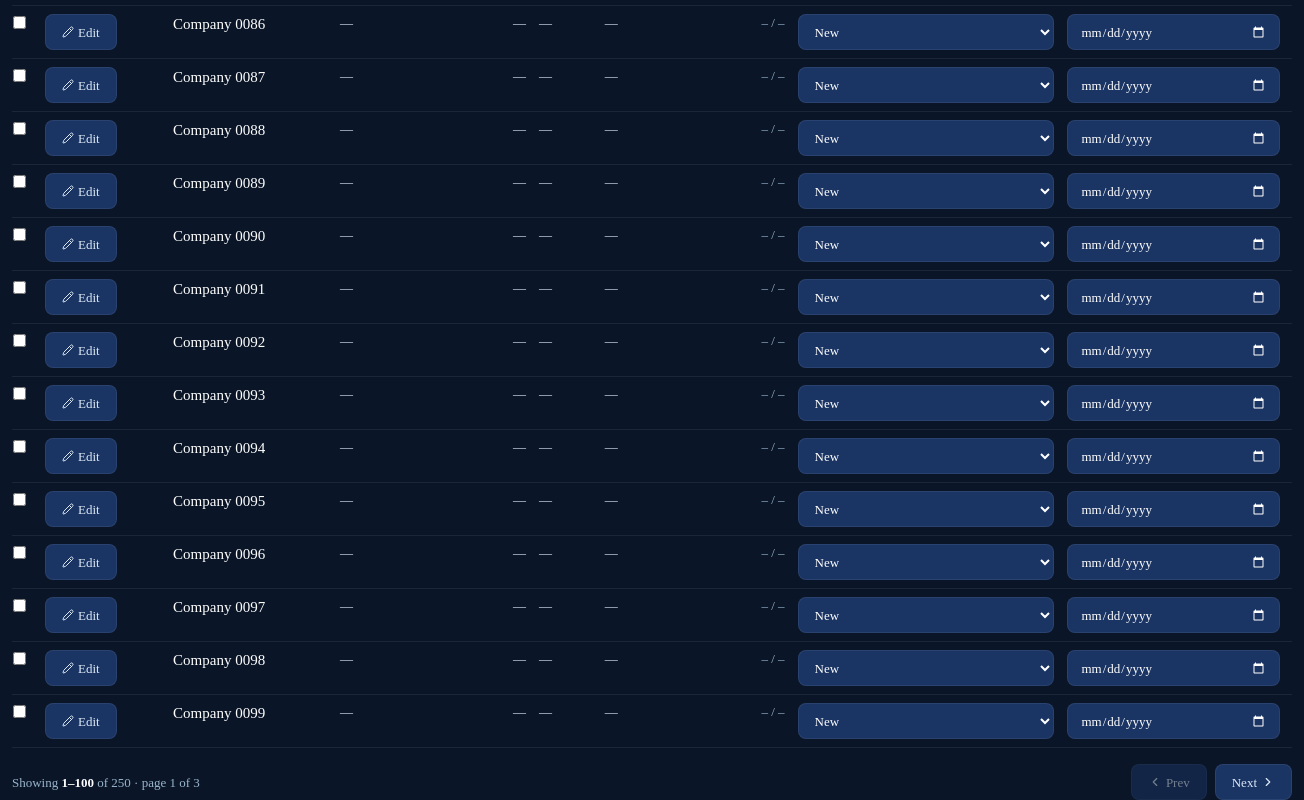
Test case: ProspectsClient pagination › shows only the remainder on the last page
The image size is (1304, 800).
(page scrolled)
Click the button with aria-label "Next page": (1253, 782) top-left (1215, 764), bottom-right (1292, 799)
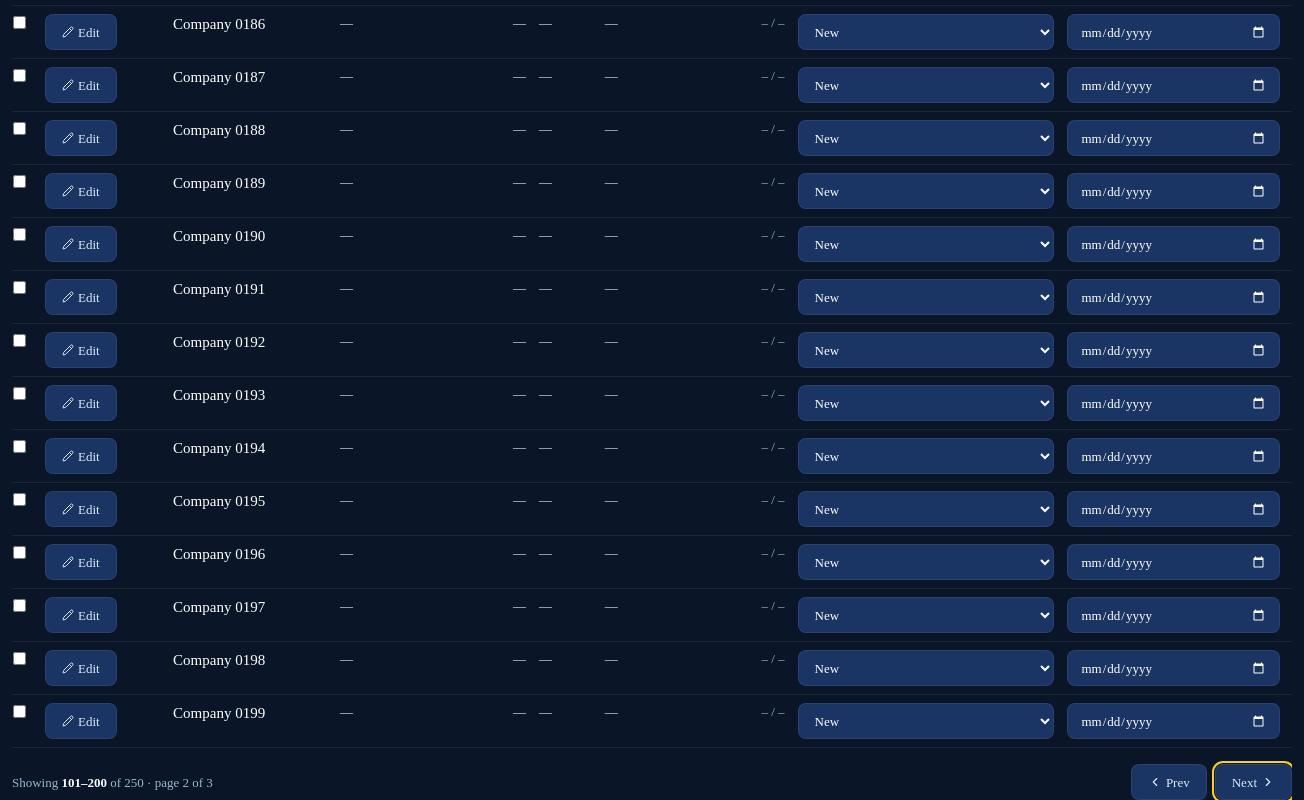
Click the button with aria-label "Next page": (1253, 782) top-left (1215, 764), bottom-right (1292, 799)
(page scrolled)
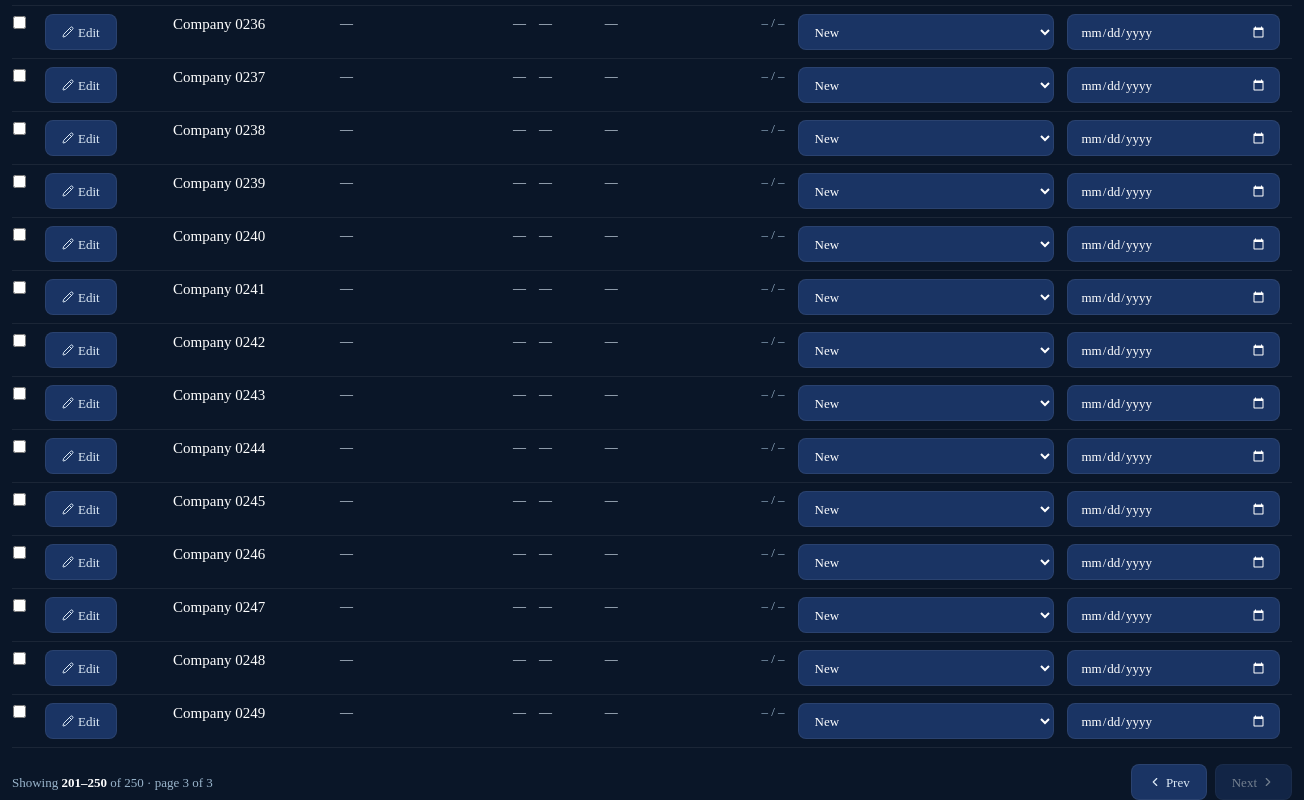
Now the button with aria-label "Next page" is disabled, box top-left (1215, 764), bottom-right (1292, 799)
